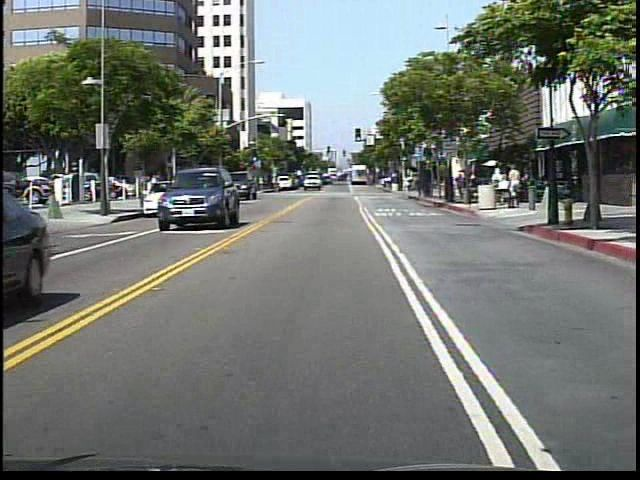person: (454, 173, 468, 201)
